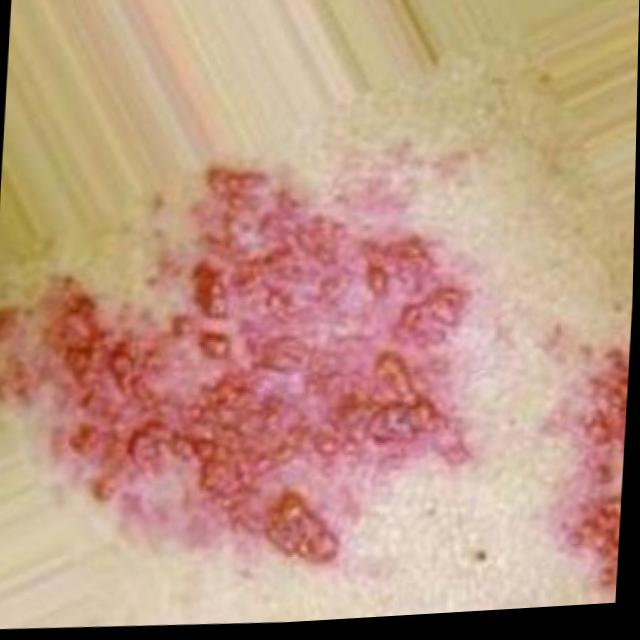Shingles: (22, 169, 459, 574), (563, 359, 628, 580)
